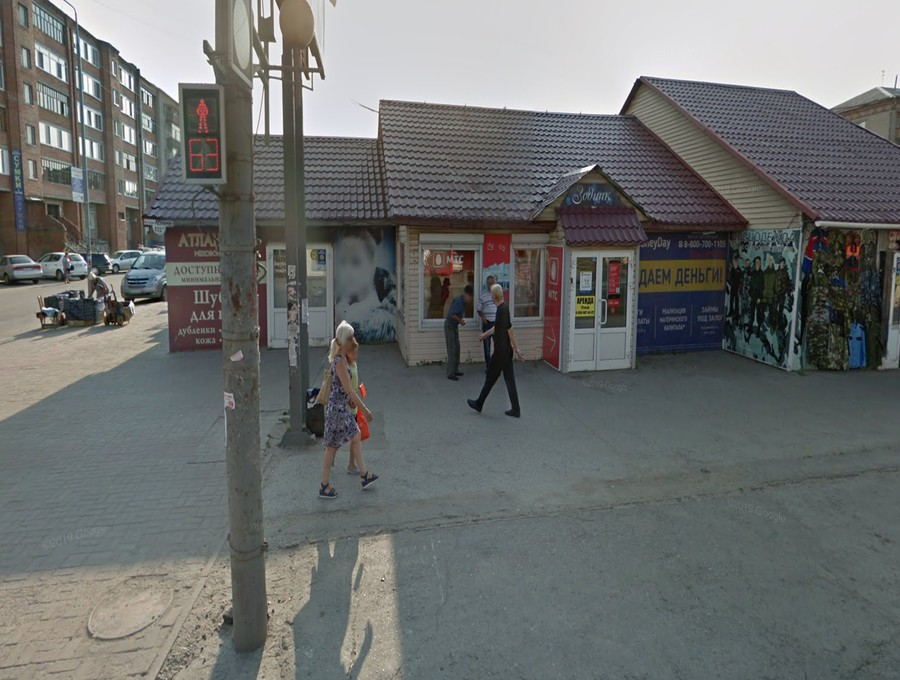Traffic Light-red: (183, 91, 223, 178)
